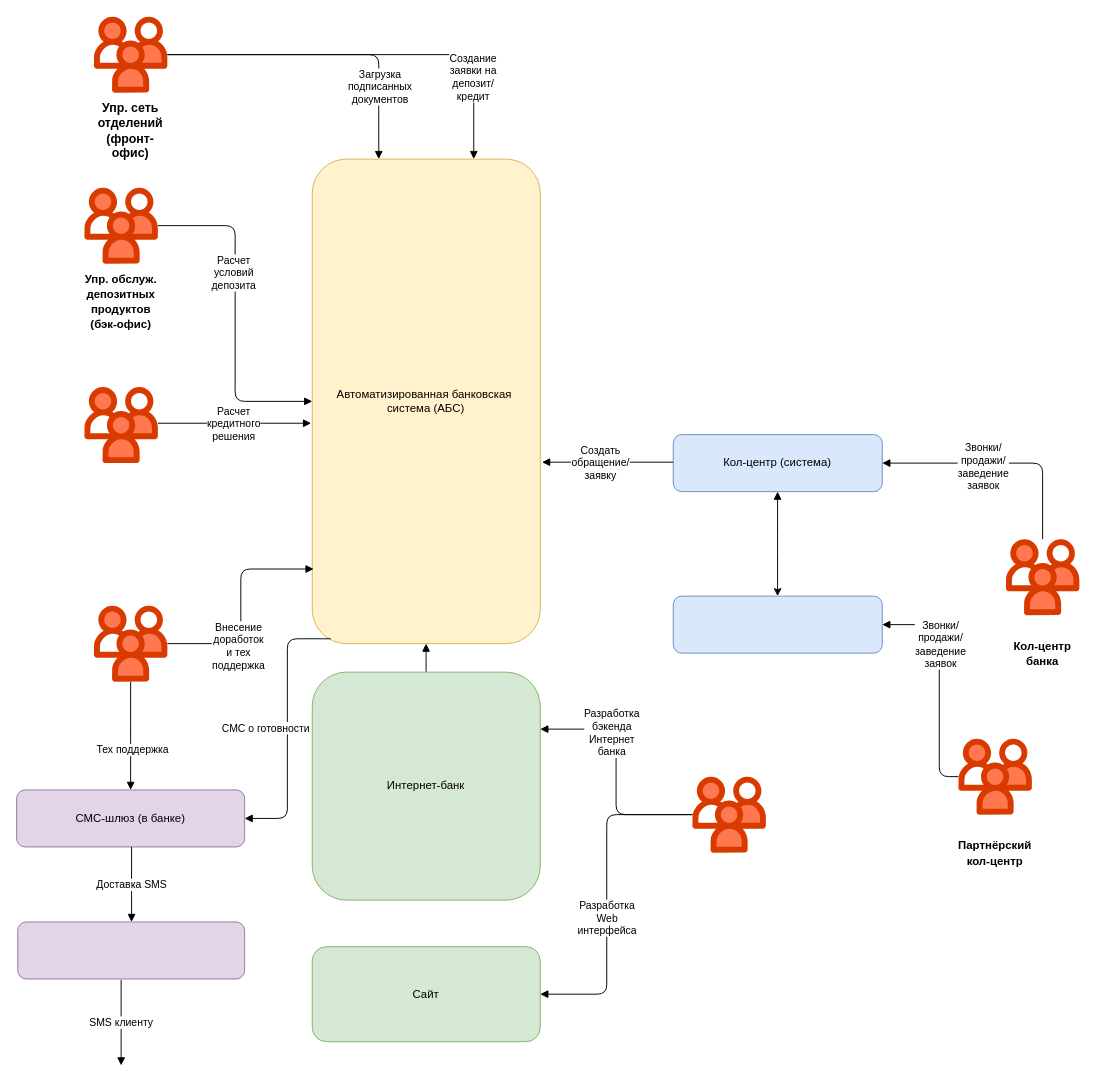
Image size: 1096x1090. Some labels were removed from this diagram. Each missing label, with the centre of its shape:
"Команда цифровой трансформации" belongs at pixel 728 814.
"Партнёрский кол-центр (внешняя система)" belongs at pixel 777 624.
"Телеком-оператор (внешний)" belongs at pixel 131 950.
"Упр. обслуж. кредитных продуктов (бэк-офис)" belongs at pixel 120 424.
"Управление IT" belongs at pixel 130 643.
